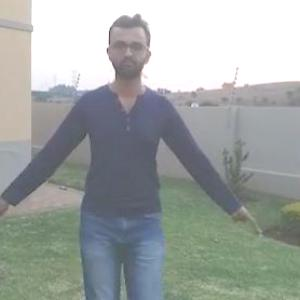land: (9, 29, 236, 299)
